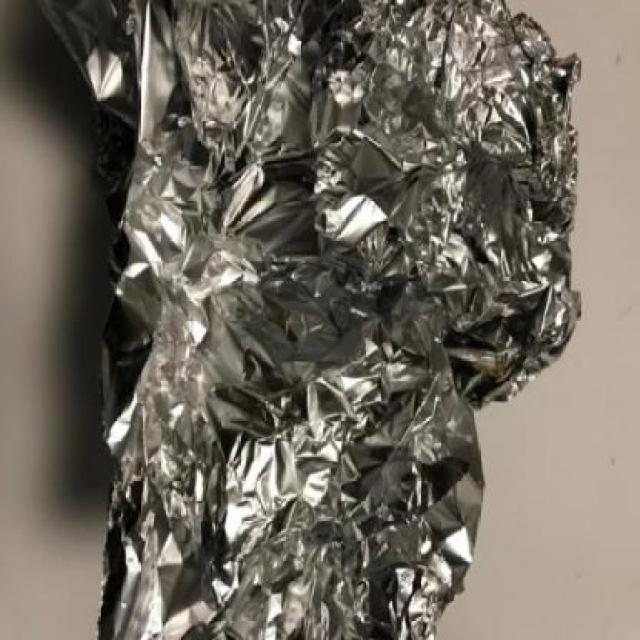METAL: (33, 0, 584, 638)
